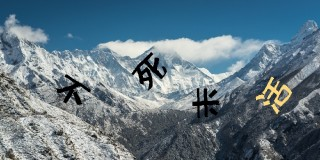不: (55, 73, 91, 106)
半: (191, 85, 222, 117)
死: (131, 52, 168, 90)
活: (255, 77, 293, 115)
